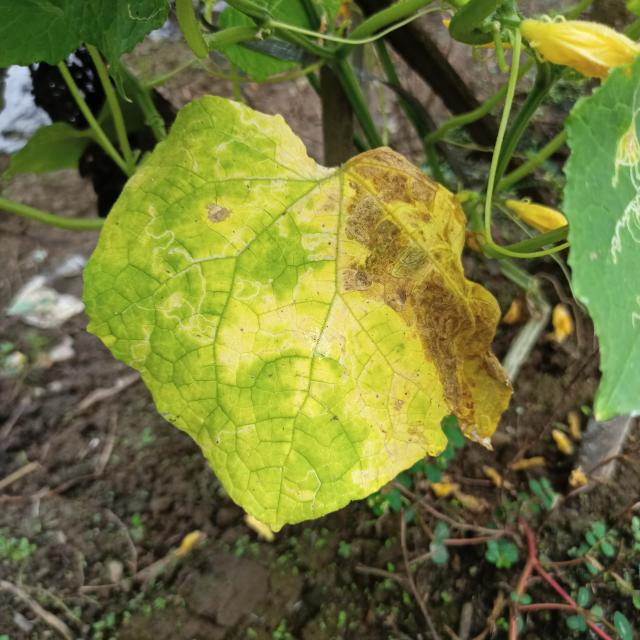disease_cucumber: (88, 96, 507, 528)
